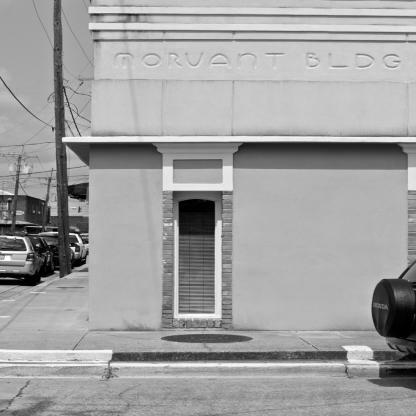truck: (1, 229, 45, 292)
